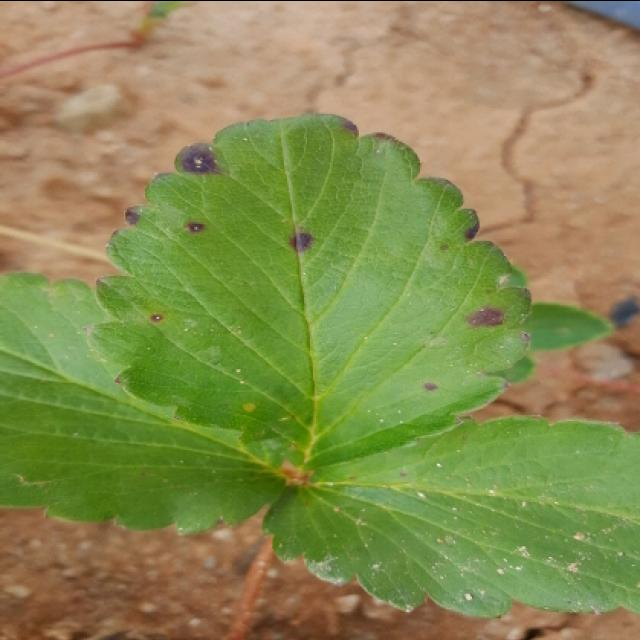Leaf Spot: (82, 111, 533, 475), (261, 414, 638, 619)
